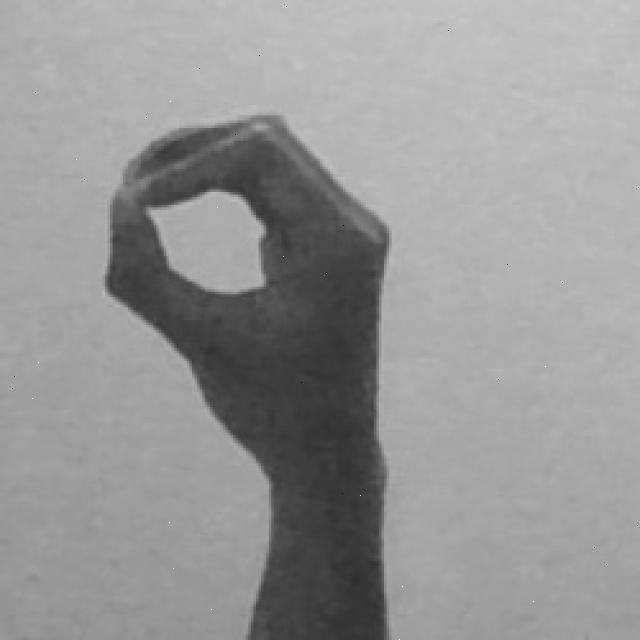O: (106, 105, 399, 640)
